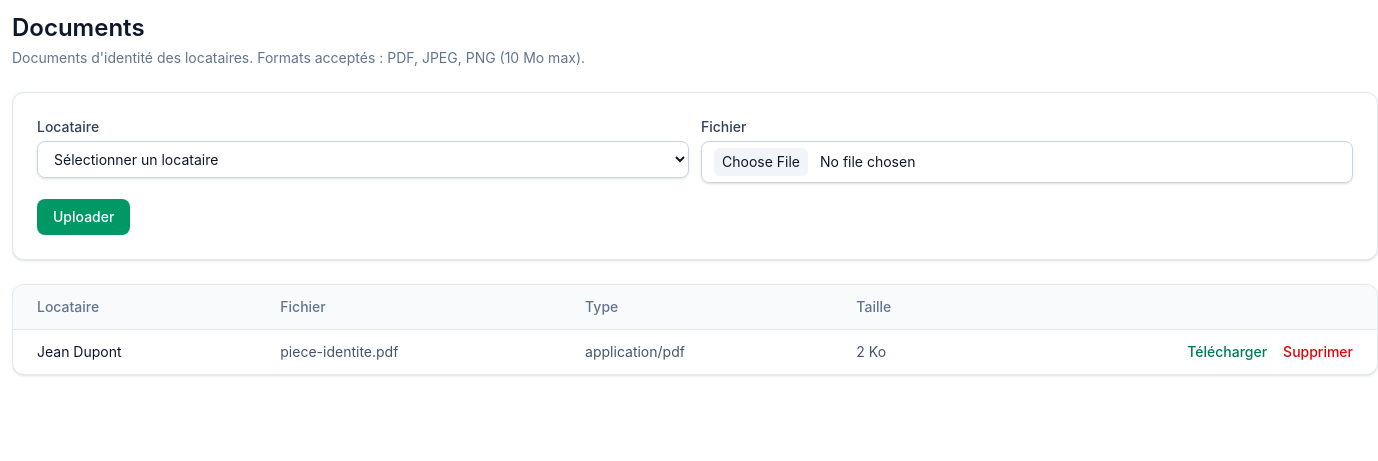
Scenario: DocumentsPage › affiche un message si le téléchargement échoue
expect the text "piece-identite.pdf" is shown: met, box [256,330,561,374]
Click the button "Télécharger". click: (1227, 352)
box: [1187,342,1267,362]
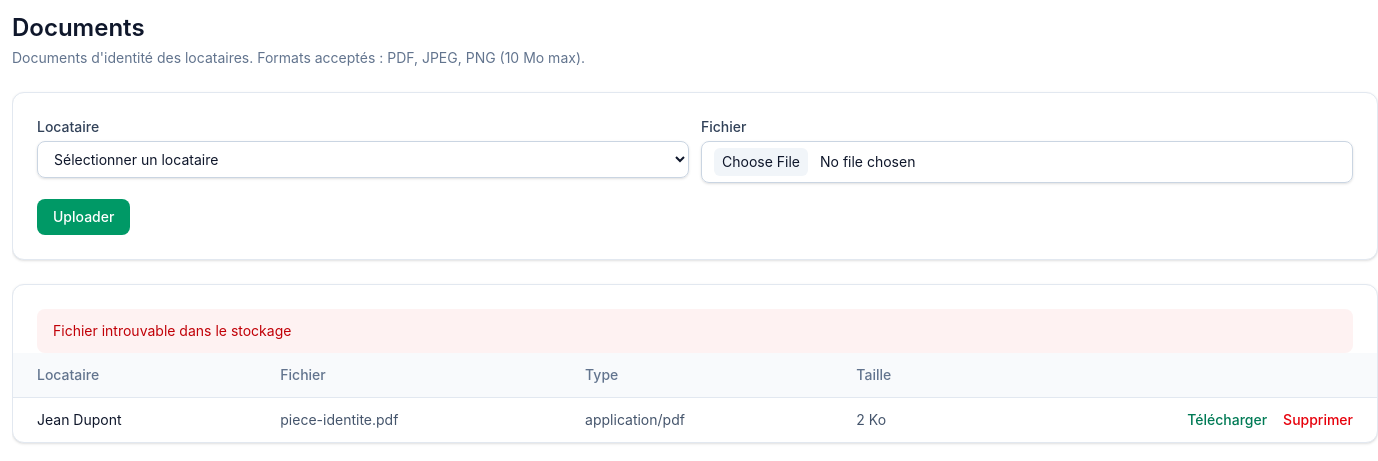
expect the message reads "Fichier introuvable dans le stockage": met, box [53,322,291,339]
